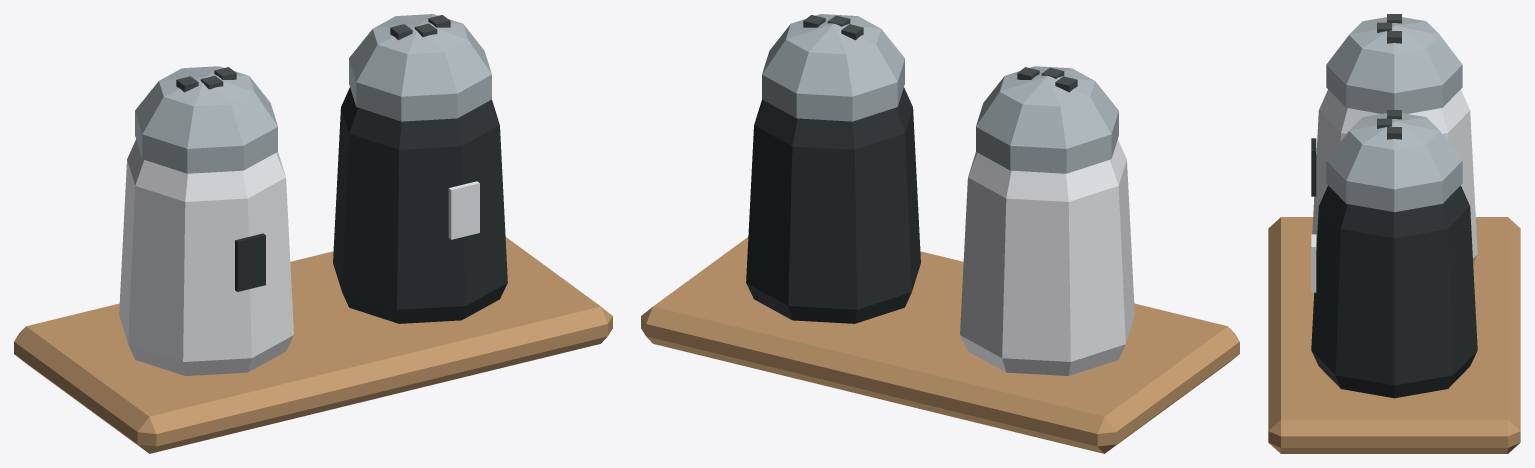
The model's file is salz-pfeffer.glb.
3 renders of one model, left to right at view 1: azimuth 30°, elevation 25°; view 2: azimuth 150°, elevation 25°; view 3: azimuth 270°, elevation 25°, orthographic. The views are drawn at different scales.
Parts seen in each view (by area): view 1: salz-pfeffer-m; view 2: salz-pfeffer-m; view 3: salz-pfeffer-m.
Part boxes in pixels (x1,y1,x2,y2): salz-pfeffer-m: (14, 14, 612, 453); salz-pfeffer-m: (641, 14, 1239, 453); salz-pfeffer-m: (1268, 14, 1520, 453).
Size of the model in its own units: 0.2 by 0.122 by 0.1.
